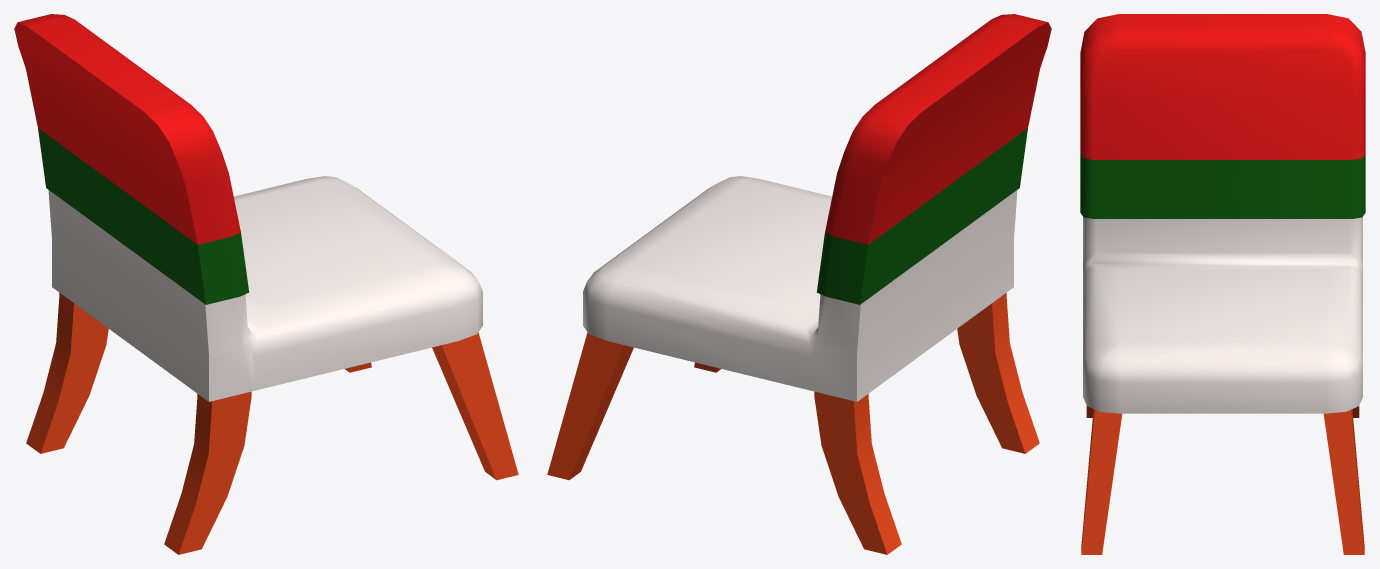
Rendered from ghe 10.FBX.
The picture shows the model from 3 angles, left to right: view 1: azimuth 30°, elevation 25°; view 2: azimuth 150°, elevation 25°; view 3: azimuth 270°, elevation 25°; orthographic projection. The views are drawn at different scales.
Visible parts, largest first — view 1: Object1251; view 2: Object1251; view 3: Object1251.
Part boxes in pixels (x1=…): Object1251: x1=14, y1=14, x2=518, y2=554; Object1251: x1=547, y1=14, x2=1051, y2=554; Object1251: x1=1080, y1=14, x2=1365, y2=554.
Bounding box in the file's own units: 1.6 × 1.88 × 1.26.
